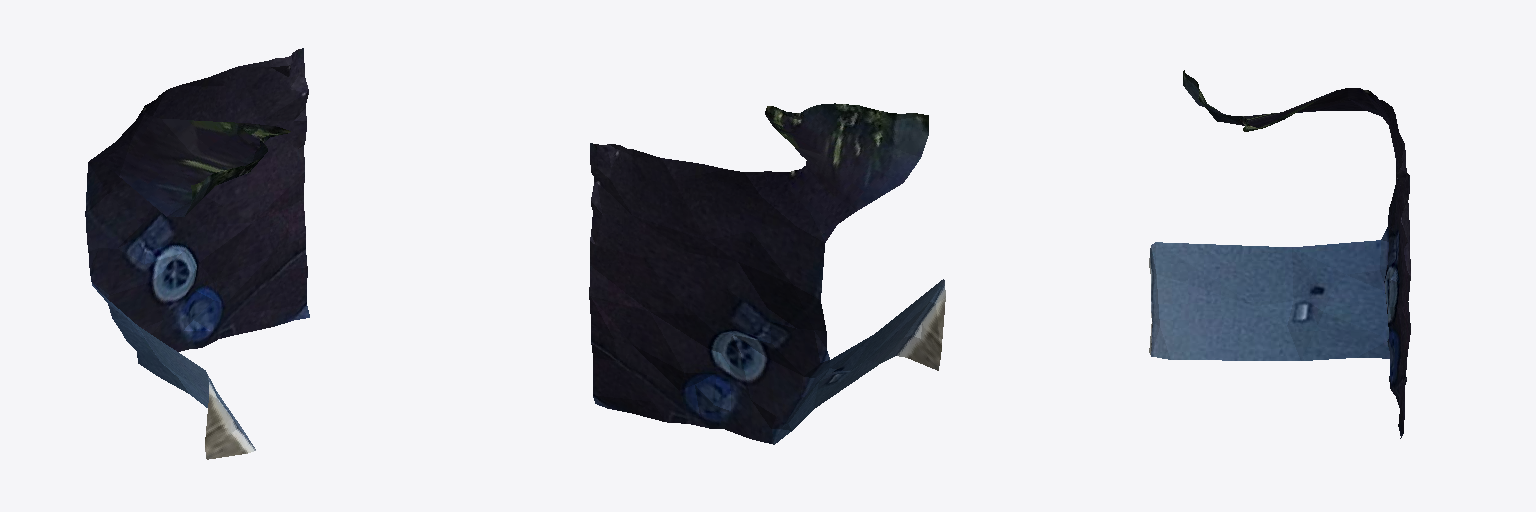
3 views of the same model, side by side, from view 1: azimuth 30°, elevation 25°; view 2: azimuth 150°, elevation 25°; view 3: azimuth 270°, elevation 25° (orthographic).
Parts seen in each view (by area): view 1: obj_0; view 2: obj_0; view 3: obj_0.
Part boxes in pixels (left/top/right/bottom): obj_0: left=85, top=48, right=309, bottom=459; obj_0: left=589, top=103, right=945, bottom=444; obj_0: left=1149, top=70, right=1410, bottom=438.
Bounding box in the file's own units: 10.04 × 11.27 × 10.06.
Materials: 1 (1 with a texture image).